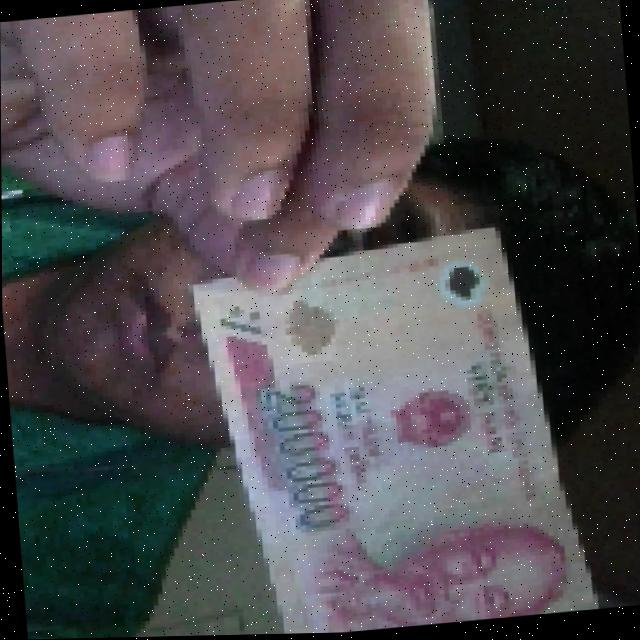200 000 VND: (183, 213, 612, 637)
